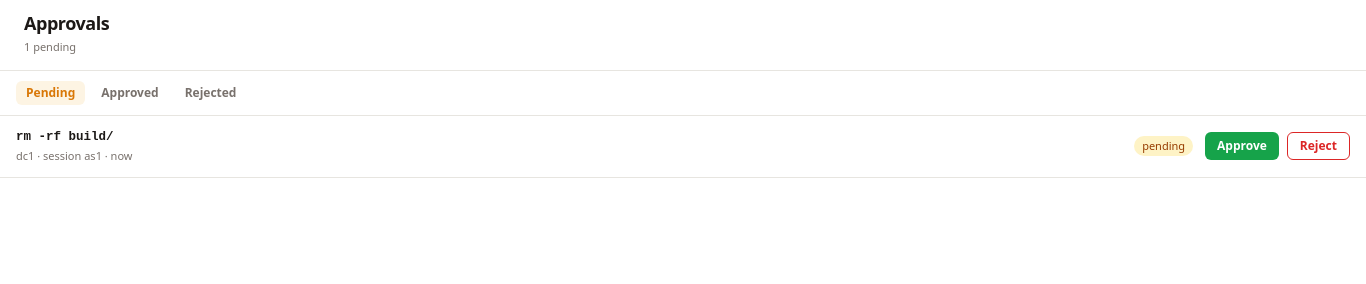
Test case: Approvals convergence (AC1, AC2, AC3, AC4, AC5, AC6) › AC2: reject converges — pending row disappears after action + approvals invalidation
Expected: the text "rm -rf build/" is shown, [16,130,114,144]
Click the button "Reject" at [1318, 146], box [1287,132,1350,160]
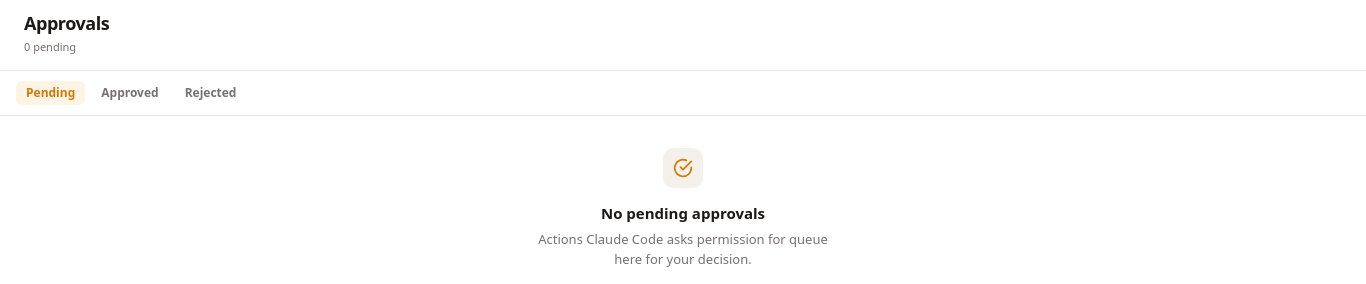
Result: the heading "No pending approvals" is shown at [601,202,765,222]
